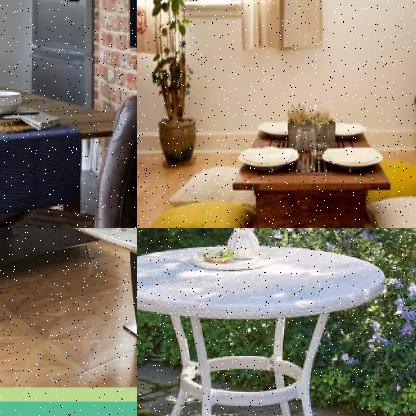table: (137, 238, 387, 415), (0, 61, 136, 227), (229, 117, 394, 227), (65, 228, 136, 382)
